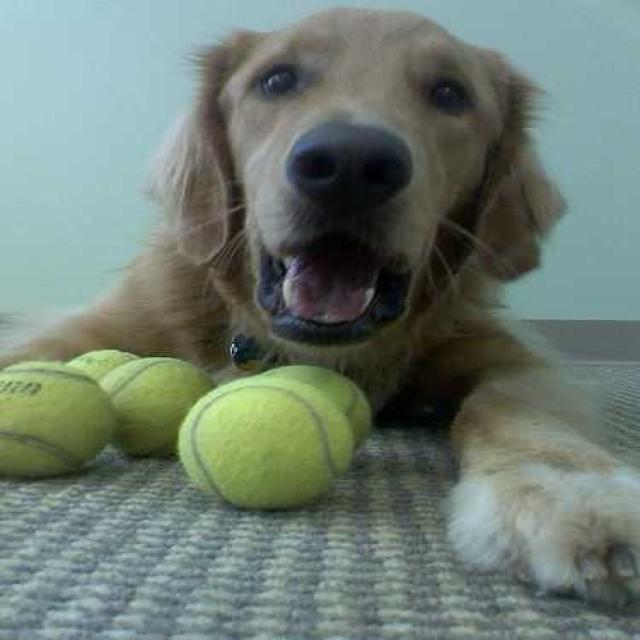Tennis_Ball: (179, 376, 350, 507), (0, 355, 117, 480), (109, 357, 211, 445), (256, 368, 371, 443), (70, 344, 139, 394)
